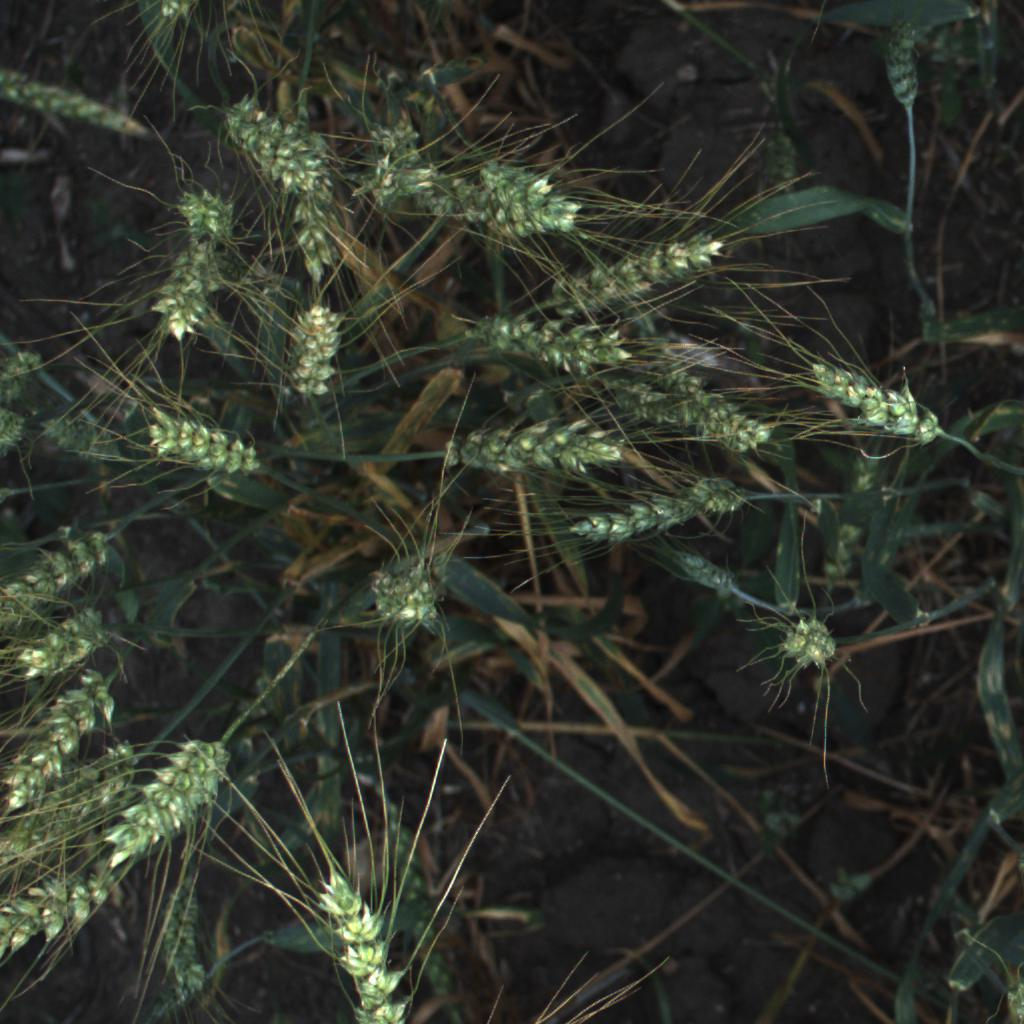0-0: (372, 784, 475, 1021), (299, 856, 424, 1024), (1, 723, 147, 865), (100, 732, 239, 877), (0, 662, 127, 815), (541, 223, 735, 309), (0, 853, 131, 980), (0, 511, 129, 635), (131, 387, 271, 500), (350, 525, 480, 645), (804, 351, 953, 455), (217, 87, 342, 208), (454, 301, 639, 382), (557, 473, 759, 547), (819, 419, 902, 593), (0, 60, 162, 149), (601, 382, 780, 457), (6, 588, 147, 683), (442, 418, 647, 480), (148, 861, 220, 1015), (425, 179, 597, 242), (140, 223, 228, 344), (277, 293, 354, 410), (757, 596, 850, 689), (289, 163, 343, 293), (867, 7, 931, 110), (31, 408, 128, 470), (169, 181, 247, 252), (471, 152, 568, 208), (357, 120, 420, 200), (664, 547, 751, 601), (139, 0, 208, 48)
